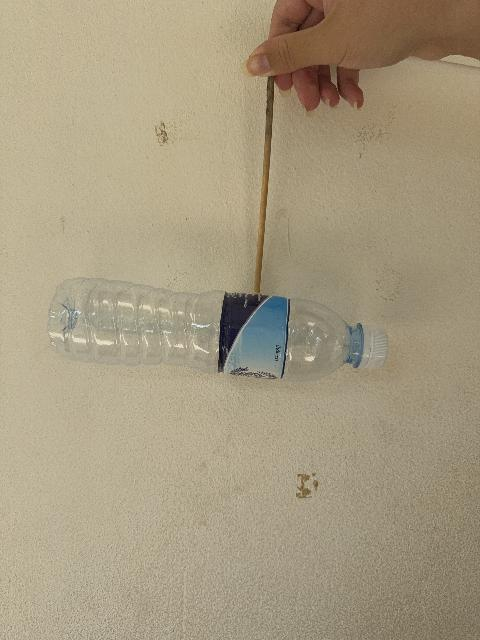bottle: (48, 279, 387, 381)
